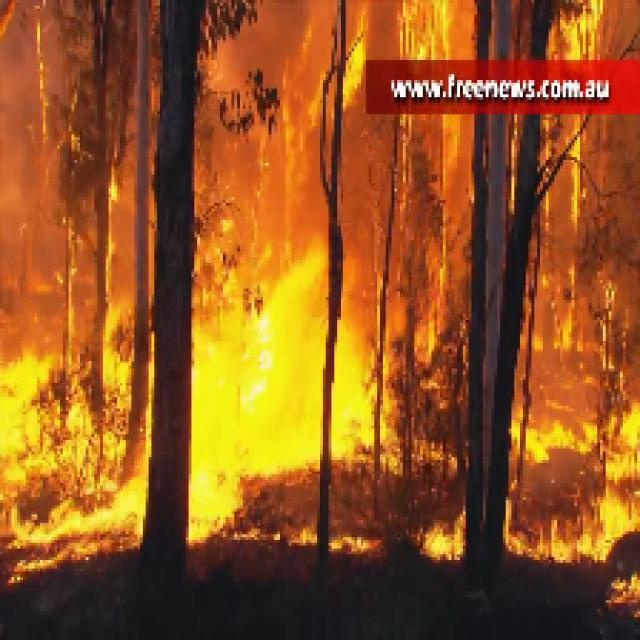Fire: (191, 240, 323, 529), (9, 328, 140, 538), (526, 494, 634, 560), (400, 3, 457, 60), (554, 2, 606, 54)
Smoke: (2, 9, 68, 238), (225, 2, 328, 78)
